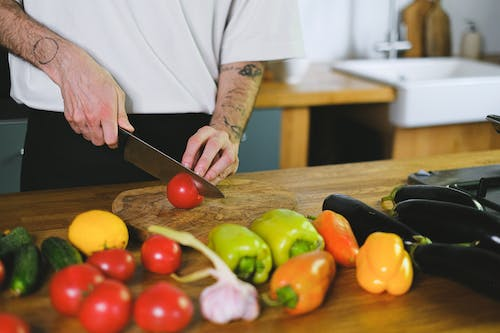knife: (117, 124, 227, 201)
